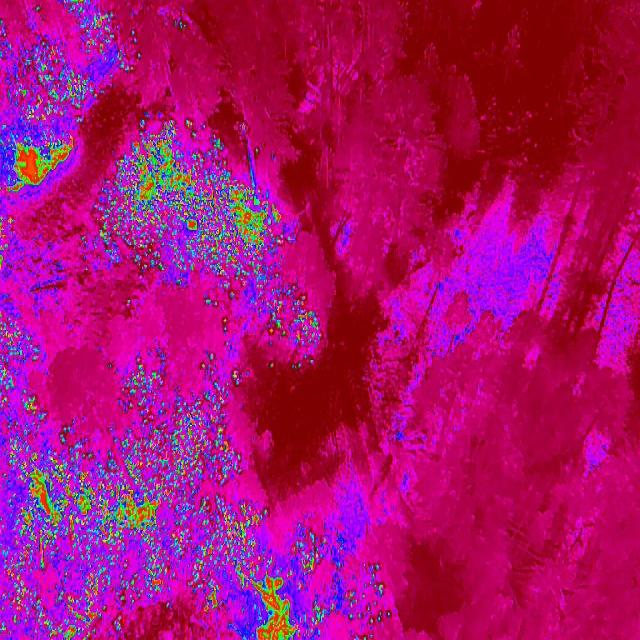fire: (93, 114, 285, 284), (0, 436, 109, 640), (108, 486, 268, 615), (109, 390, 242, 489), (0, 41, 100, 121), (64, 0, 148, 78), (262, 278, 322, 371), (6, 134, 75, 198), (0, 368, 44, 466), (344, 562, 396, 640), (117, 346, 170, 413), (254, 577, 298, 640), (0, 312, 34, 370), (288, 526, 326, 576), (200, 353, 228, 406), (0, 213, 17, 278), (199, 284, 242, 308), (304, 600, 334, 628), (228, 364, 254, 390), (218, 314, 230, 334), (172, 17, 188, 31)
